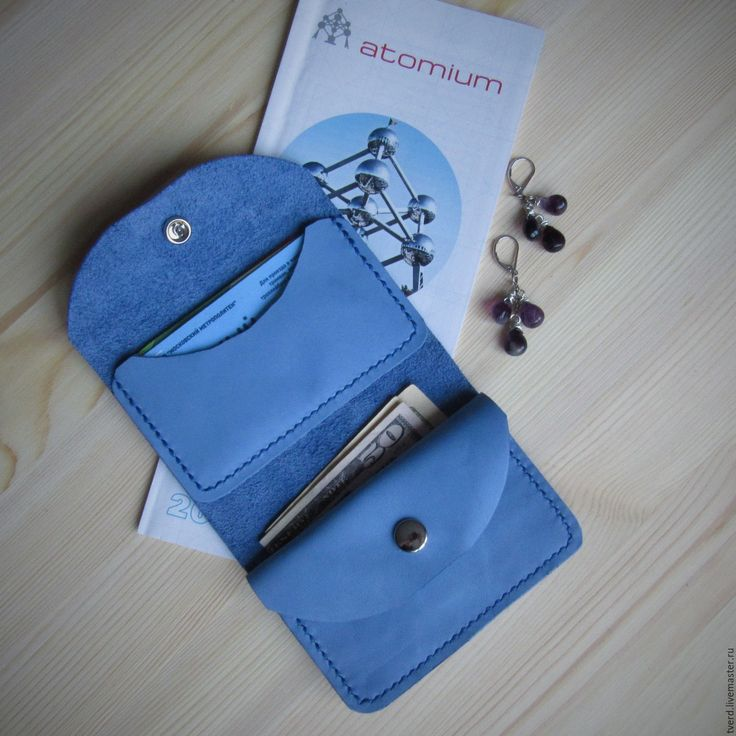cuero: (66, 155, 584, 714)
